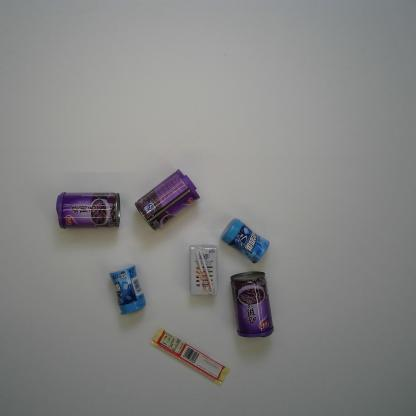Canned Food: (134, 168, 201, 232), (230, 271, 274, 338), (55, 191, 121, 229)
Chocolate: (150, 326, 230, 387)
Gum: (220, 217, 271, 264), (109, 264, 146, 316)
Milk: (189, 244, 218, 296)
